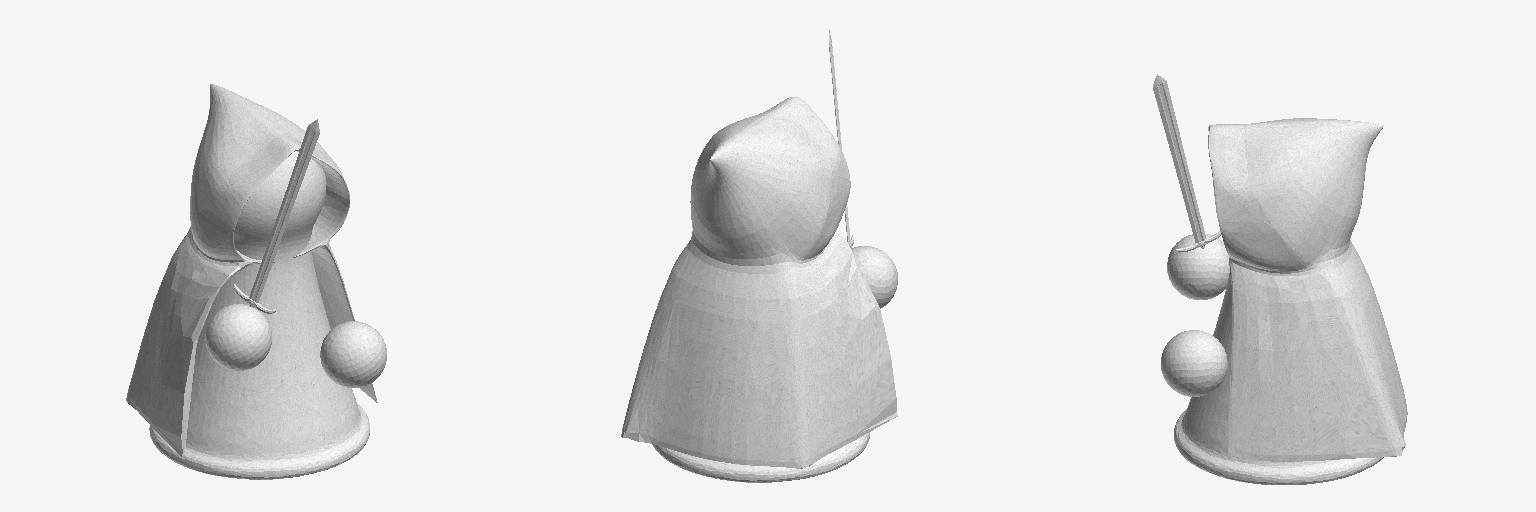
3 renders of one model, left to right at view 1: azimuth 30°, elevation 25°; view 2: azimuth 150°, elevation 25°; view 3: azimuth 270°, elevation 25°, orthographic.
Visible parts, largest first — view 1: Body, Cape, Hand1, Hand2_Hand1.001, Sword; view 2: Cape, Body, Hand1, Sword; view 3: Cape, Body, Hand2_Hand1.001, Hand1, Sword.
Boxes of the visible parts, <box> form: Body: <box>149,151,369,479</box>; Cape: <box>126,84,377,456</box>; Hand1: <box>205,304,271,370</box>; Hand2_Hand1.001: <box>320,321,386,387</box>; Sword: <box>234,119,319,313</box>; Cape: <box>621,97,897,468</box>; Body: <box>652,432,869,482</box>; Hand1: <box>852,246,897,308</box>; Sword: <box>829,30,853,249</box>; Cape: <box>1208,118,1407,461</box>; Body: <box>1174,273,1383,484</box>; Hand2_Hand1.001: <box>1161,330,1227,396</box>; Hand1: <box>1167,234,1229,299</box>; Sword: <box>1153,74,1221,251</box>.
Bounding box in the file's own units: 0.5581 × 0.9514 × 0.6042.
1 materials, 1 textured.